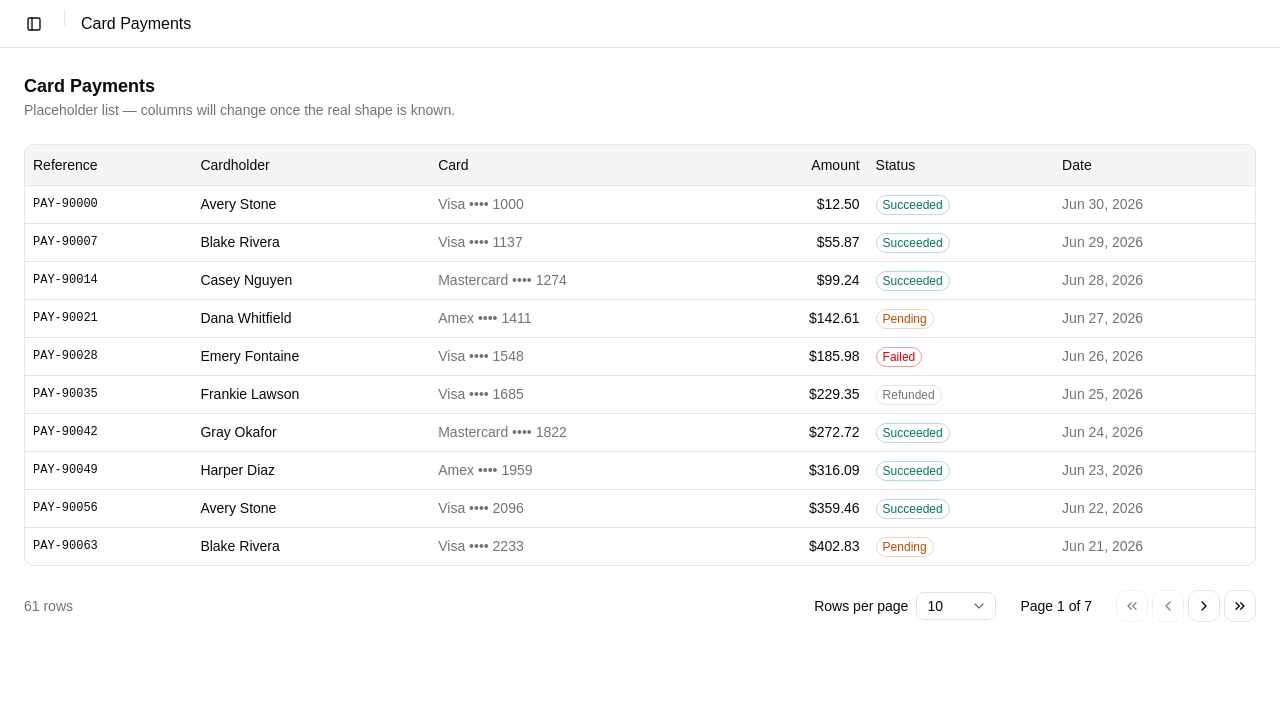
it: Card Payments list page › pages forward without unmounting the table
Check: the cell "PAY-90000" is shown, box x1=25 y1=185 x2=192 y2=223
Check: the text "Page 1 of 7" is shown, box x1=1020 y1=596 x2=1092 y2=616
Click the 4th button named "next page" at [1204, 606], box x1=1188 y1=590 x2=1220 y2=622
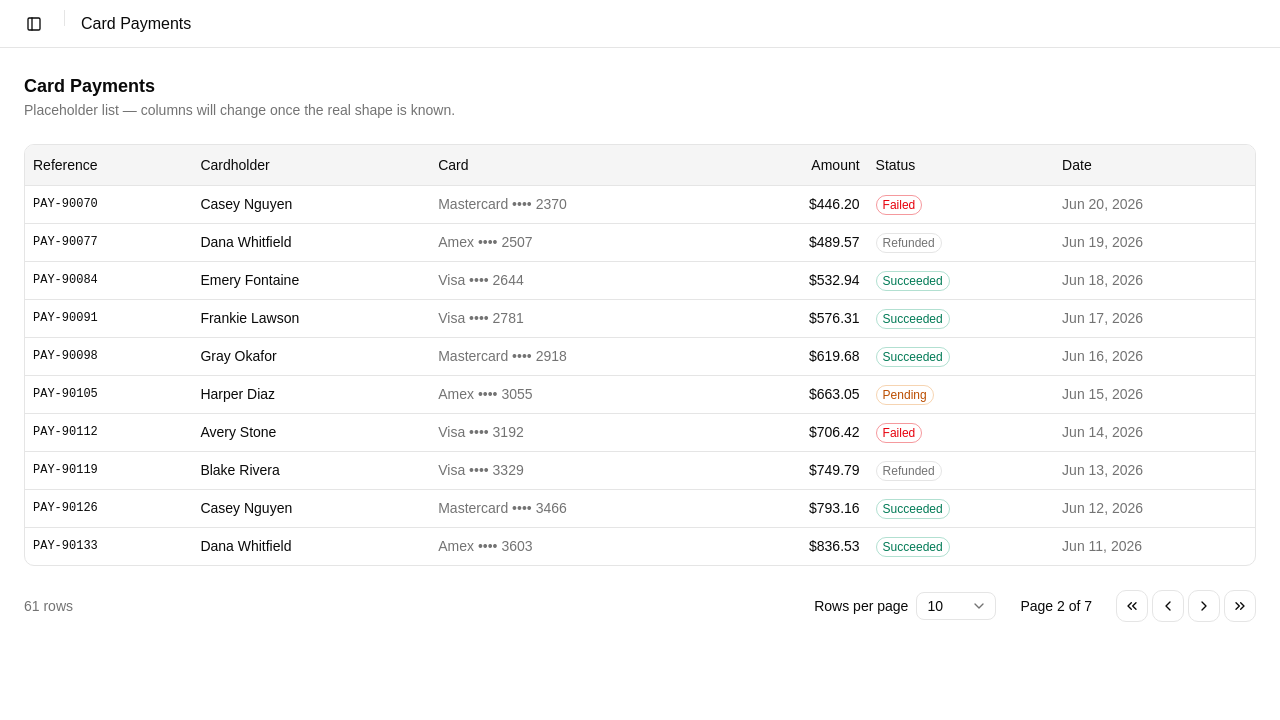
Check: the table is shown, box x1=25 y1=145 x2=1255 y2=564
Check: the text "Page 2 of 7" is shown, box x1=1020 y1=596 x2=1092 y2=616
Check: the text "PAY-90000" is gone
